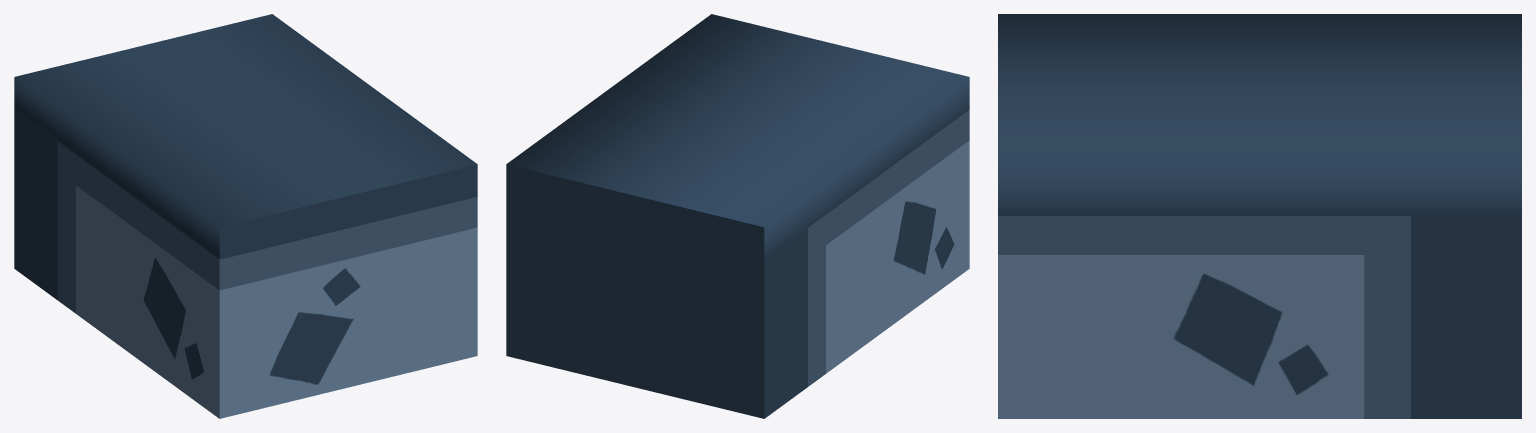
File: Rock_End.fbx
3 renders of one model, left to right at view 1: azimuth 30°, elevation 25°; view 2: azimuth 150°, elevation 25°; view 3: azimuth 270°, elevation 25°, orthographic. The views are drawn at different scales.
Visible parts, largest first — view 1: Land006; view 2: Land006; view 3: Land006.
Part boxes in pixels (<box>): Land006: <box>14,14,477,418</box>; Land006: <box>506,14,969,418</box>; Land006: <box>998,14,1521,418</box>.
Size of the model in its own units: 72.83 by 51.65 by 100.
1 material, 1 textured.
